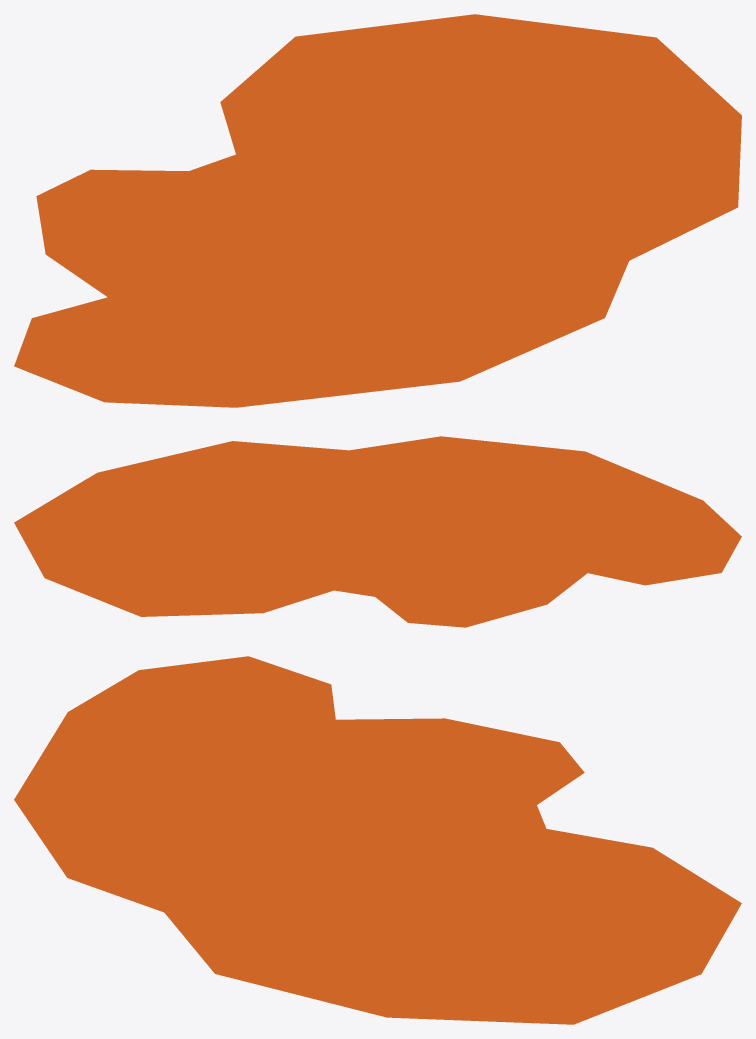
The model's file is Plane.002Sand.fbx.
3 views of the same model, one above another, from view 1: azimuth 30°, elevation 25°; view 2: azimuth 150°, elevation 25°; view 3: azimuth 270°, elevation 25° (orthographic). The views are drawn at different scales.
Visible parts, largest first — view 1: Plane.002Sand; view 2: Plane.002Sand; view 3: Plane.002Sand.
Boxes of the visible parts, bbox=[...] form: Plane.002Sand: bbox=[14, 14, 741, 407]; Plane.002Sand: bbox=[14, 436, 741, 627]; Plane.002Sand: bbox=[14, 656, 741, 1024].
Size of the model in its own units: 20.45 by 5.59e-08 by 17.07.
